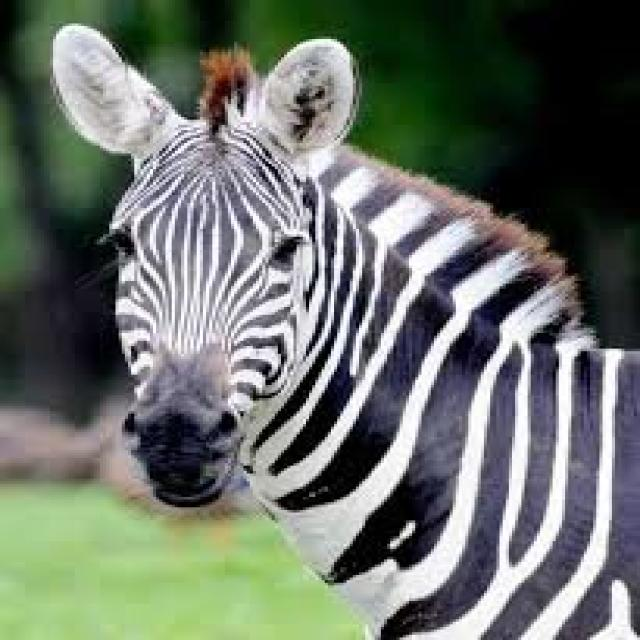Zebra: (43, 26, 640, 640)
